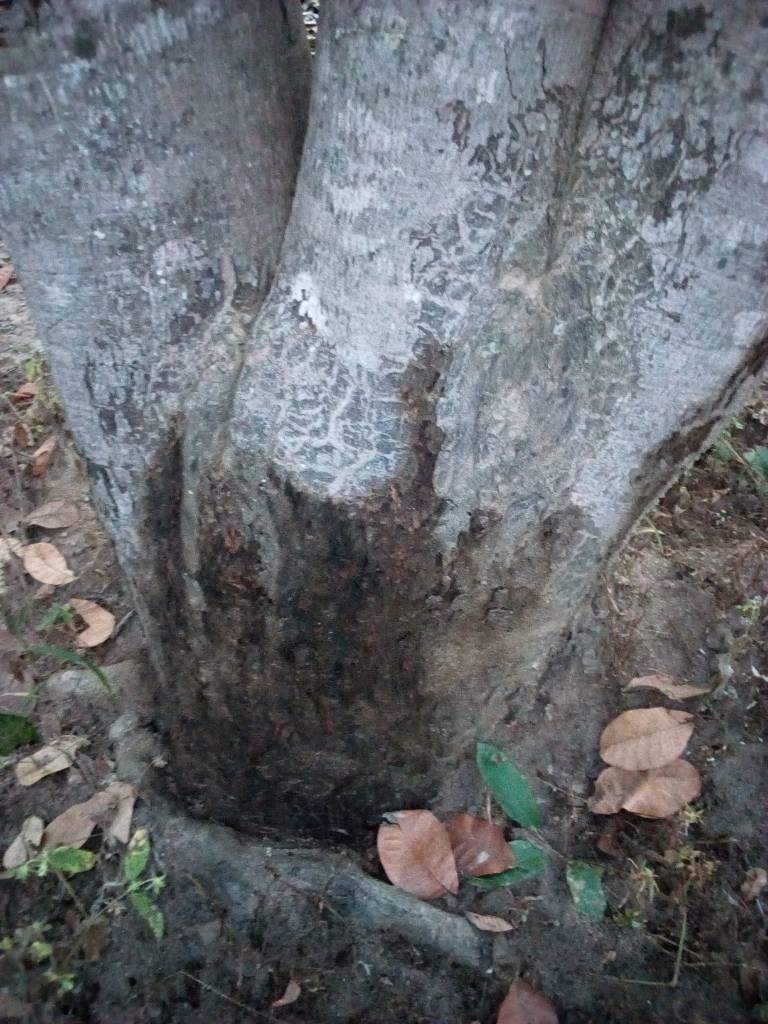Gommose: (124, 472, 433, 830)
